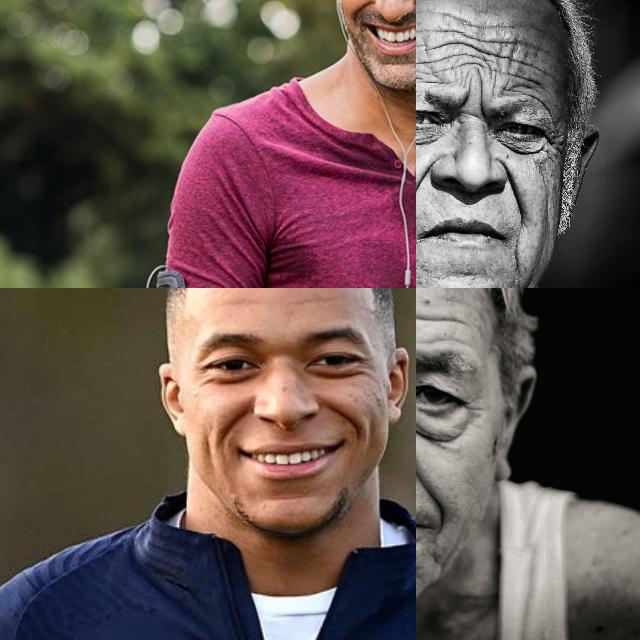crows_feet: (458, 395, 484, 421), (546, 130, 562, 160)
forehead: (472, 20, 502, 62), (293, 288, 348, 310), (429, 23, 465, 54), (418, 308, 468, 329), (504, 72, 540, 100), (512, 36, 540, 70), (424, 330, 470, 350), (220, 291, 262, 307), (416, 55, 437, 74)
frown_line: (475, 88, 489, 119), (459, 80, 473, 108)
gummy_smile: (416, 452, 440, 517), (324, 396, 364, 430), (221, 397, 247, 438), (506, 165, 524, 217), (416, 159, 429, 211), (349, 0, 372, 15)
masseter: (198, 430, 220, 470)
sad_smile: (511, 240, 525, 276)
